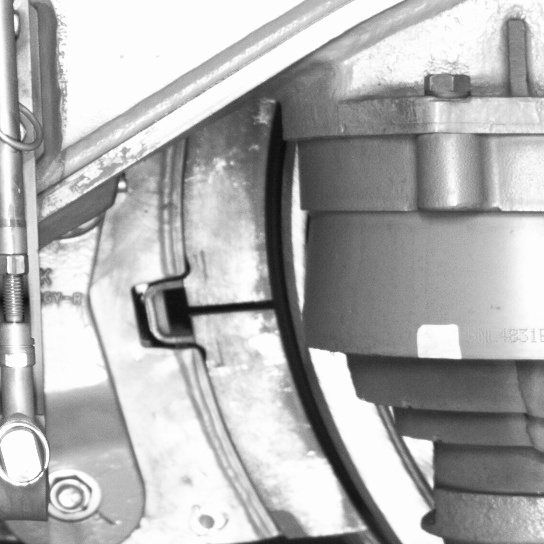KnifeSwitch: (188, 135, 406, 541)
